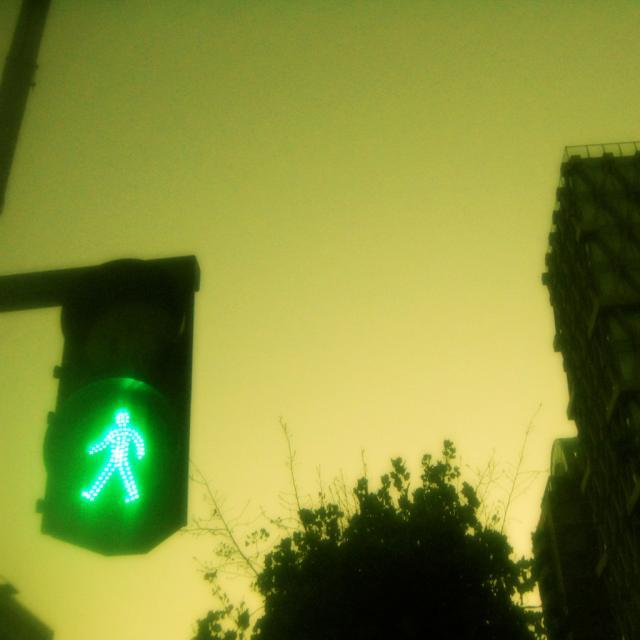traffic light: (59, 255, 187, 550)
